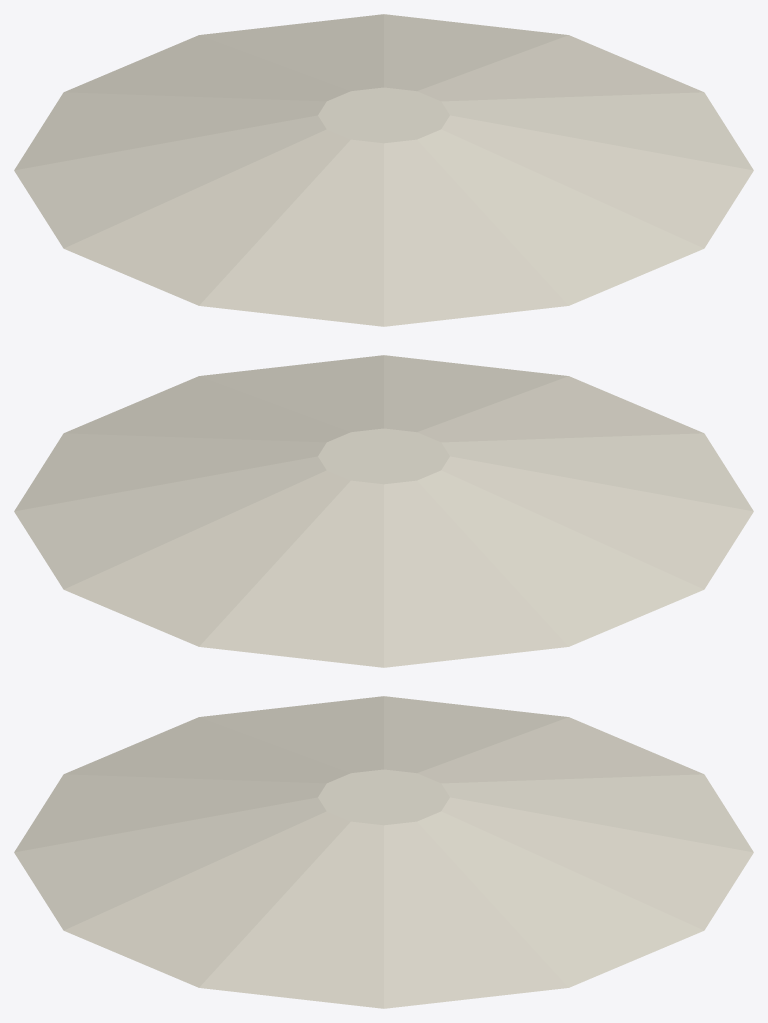
The model's file is blender_salt_3_deployed.glb.
The picture shows the model from 3 angles, top to bottom: view 1: azimuth 30°, elevation 25°; view 2: azimuth 150°, elevation 25°; view 3: azimuth 270°, elevation 25°; orthographic projection.
Parts seen in each view (by area): view 1: blender_salt_3_deployed; view 2: blender_salt_3_deployed; view 3: blender_salt_3_deployed.
Part boxes in pixels (x1,y1,x2,y2): blender_salt_3_deployed: [14, 14, 753, 326]; blender_salt_3_deployed: [14, 355, 753, 667]; blender_salt_3_deployed: [14, 696, 753, 1008].
Size of the model in its own units: 0.28 by 0.023 by 0.28.
1 material, 1 textured.
